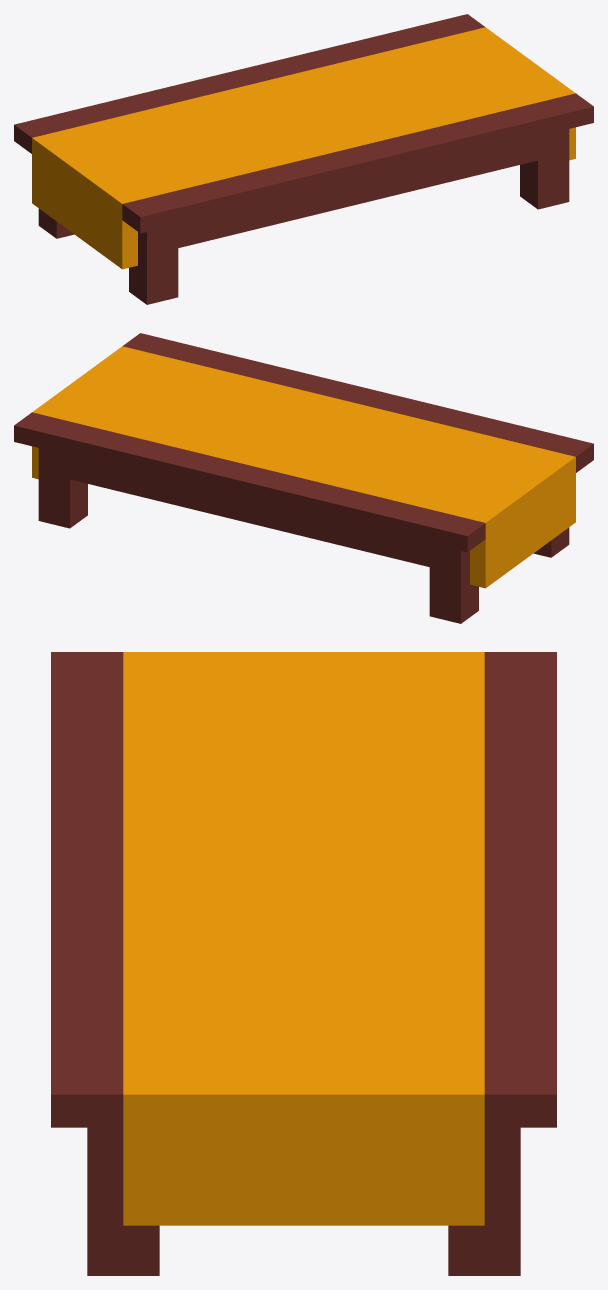
The model's file is large_table_b_yellow.obj.
3 views of the same model, one above another, from view 1: azimuth 30°, elevation 25°; view 2: azimuth 150°, elevation 25°; view 3: azimuth 270°, elevation 25° (orthographic). The views are drawn at different scales.
Size of the model in its own units: 2.9 by 0.6 by 1.4.
Materials: 1 (1 with a texture image).
